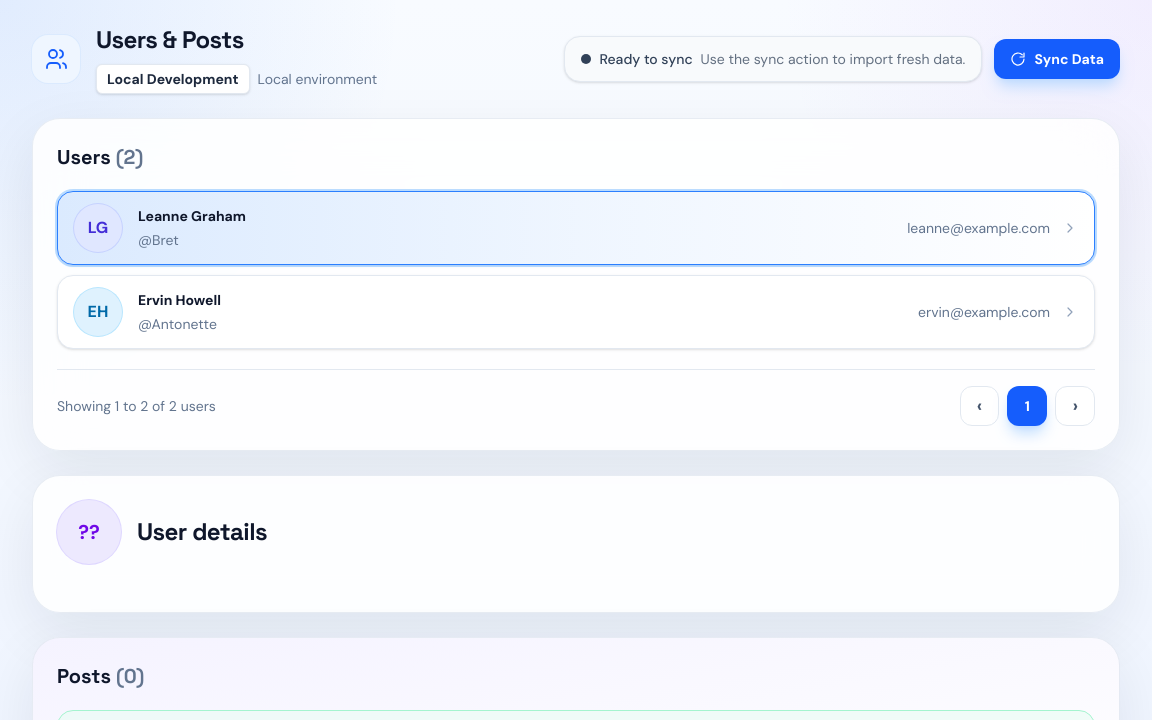
Epic 5: UI pages › TC-5.2: updates the detail page when a different user is selected
expect the button "LG Leanne Graham @Bret leanne@example.com" is shown: met, box [57,191,1095,265]
What coordinates should you click on to do the following:
click the button "EH Ervin Howell @Antonette ervin@example.com"
I would click on:
 (98, 312)
Its box is [57,275,1095,349].
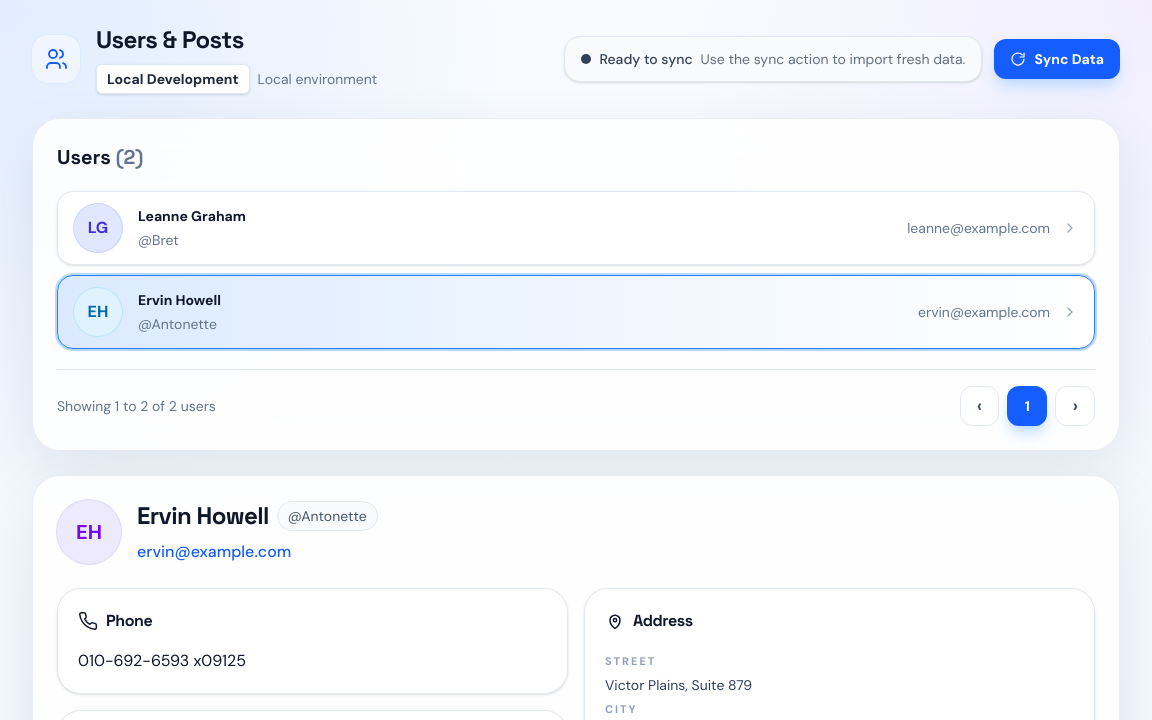
expect the heading "Ervin Howell" is shown: met, box [137,500,269,532]
expect the text "010-692-6593 x09125" is shown: met, box [78,650,246,671]
